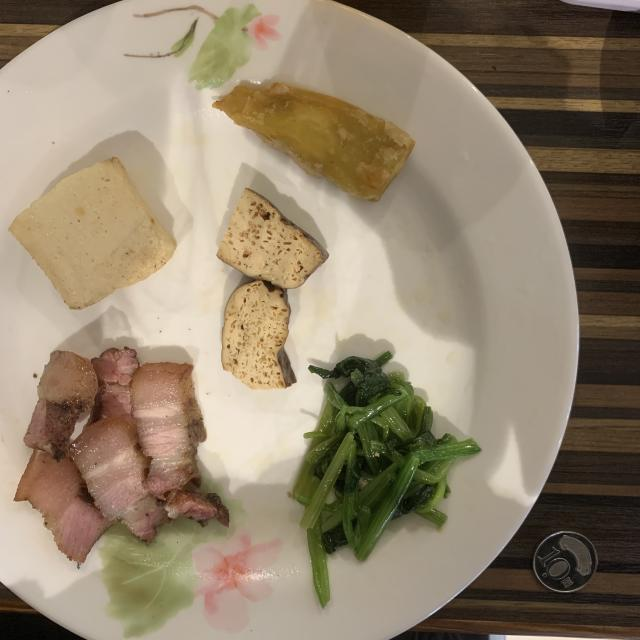coin: (534, 531, 598, 594)
creamy tofu -without sauce-: (9, 158, 176, 309)
firm tofu: (218, 189, 329, 390)
grilled pork: (15, 349, 229, 564)
mustard greens: (292, 351, 480, 608)
